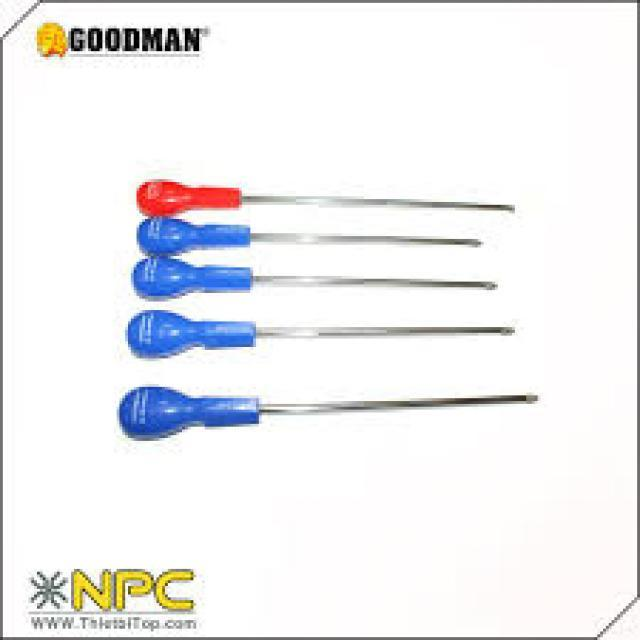screwdriver: (115, 382, 548, 442), (124, 306, 534, 366), (130, 254, 507, 306), (133, 176, 518, 219), (135, 218, 488, 255)
